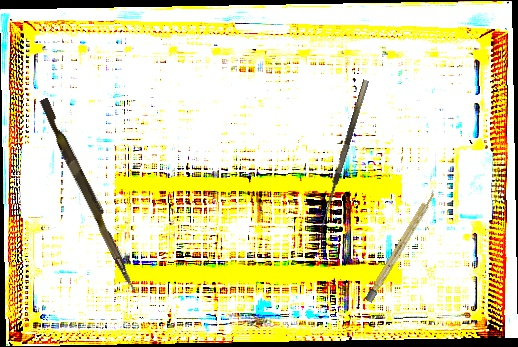Hook Surgical: (317, 79, 377, 235)
Pusher: (34, 97, 144, 293)
Scalpel Handle: (364, 189, 438, 303)
